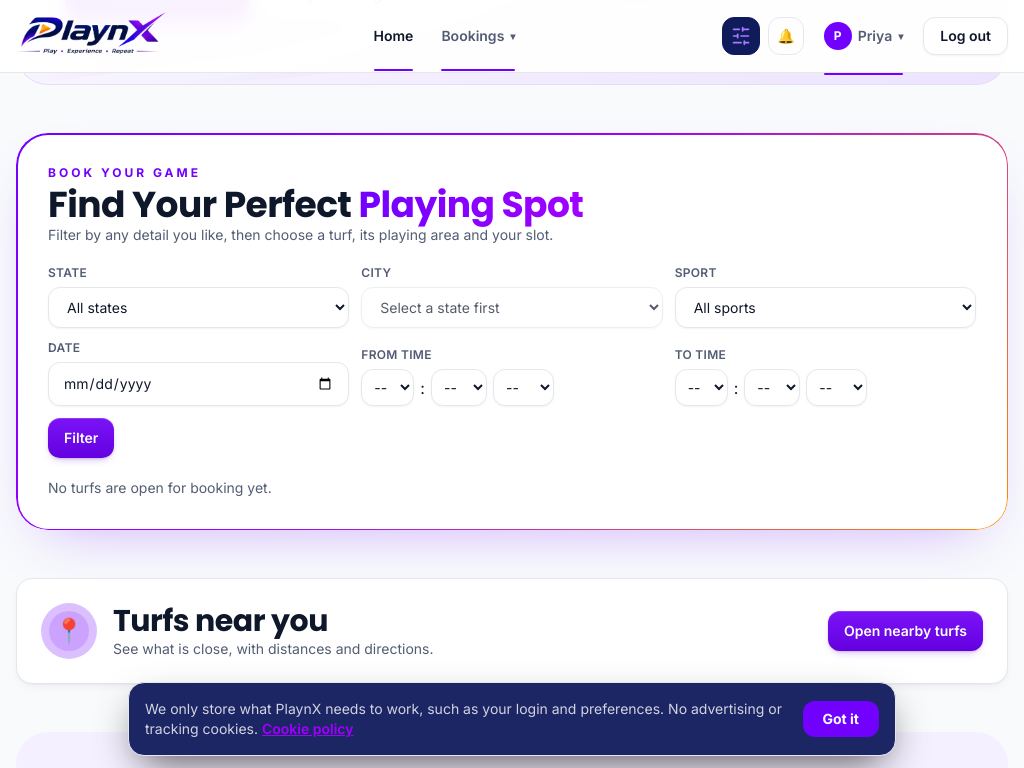
Test: customer home dashboard › a search with no free slot says so
The image size is (1024, 768).
(page scrolled)
Type "2030-01-05" into the date field labelled "Date".
click(199, 384); type("2030-01-05")  # box [48, 362, 349, 406]
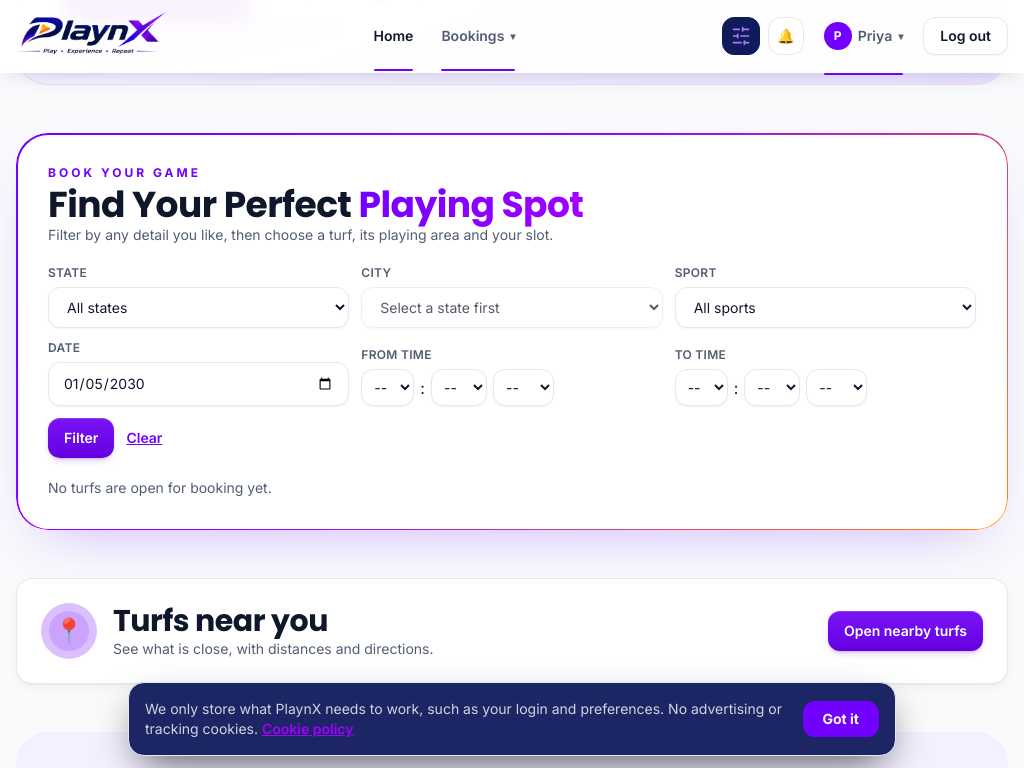
Click the button "Filter".
click(81, 438)  # box [48, 418, 114, 458]
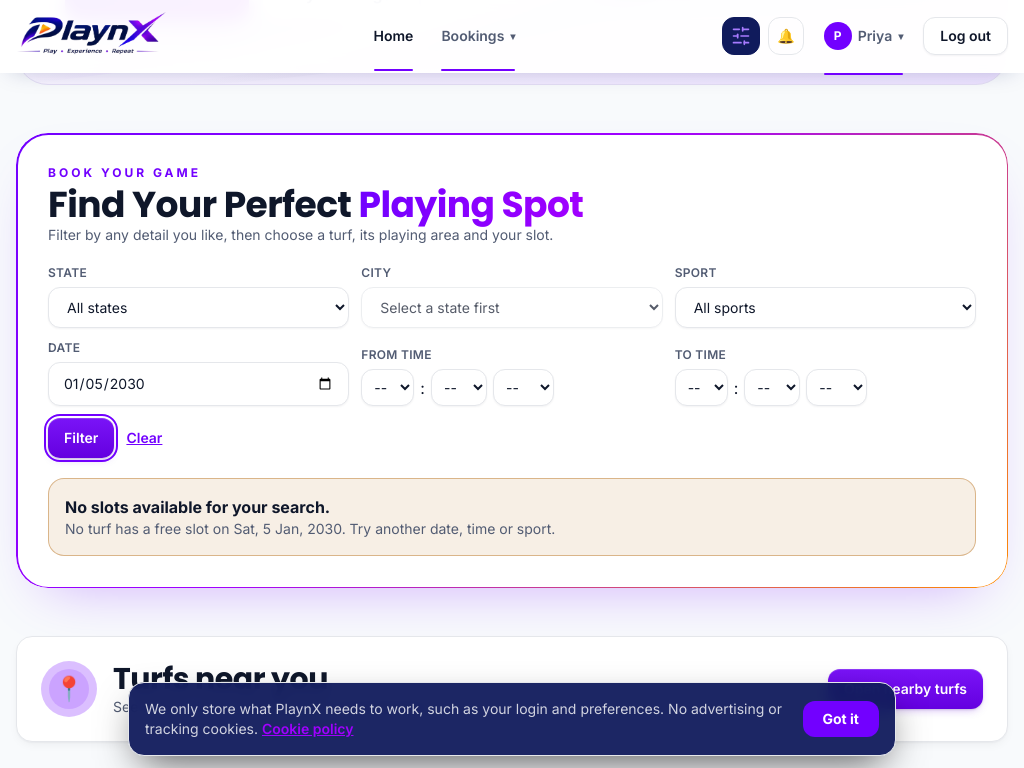
Check: the text "No slots available for your search." is shown, box [65, 497, 330, 517]
